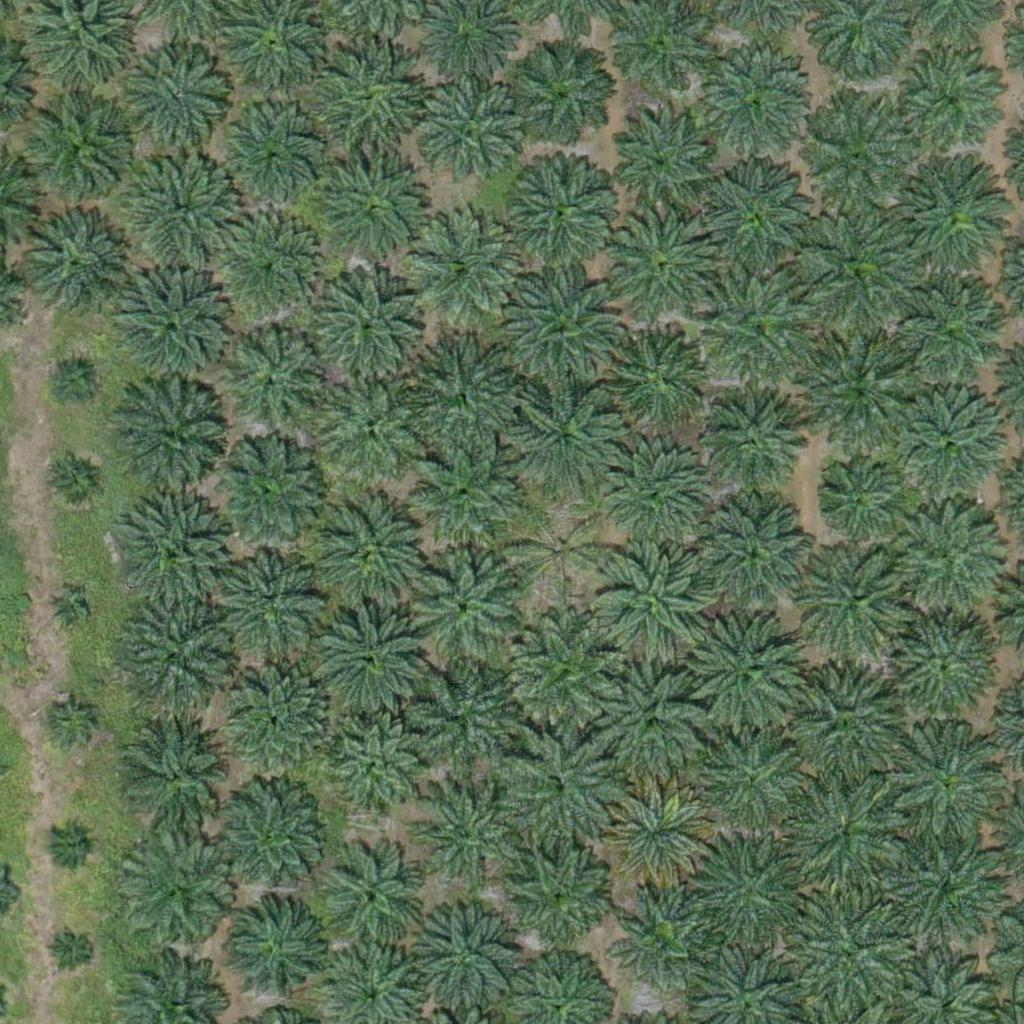Kelapa_Sawit: (305, 40, 430, 166), (315, 150, 440, 276), (884, 275, 1009, 401), (798, 332, 923, 458), (782, 773, 907, 899), (788, 892, 913, 1018), (300, 258, 425, 384), (898, 45, 1011, 159), (891, 158, 1004, 272), (129, 152, 242, 266), (893, 610, 1006, 724), (799, 544, 912, 658), (885, 725, 998, 839), (603, 207, 716, 321), (698, 497, 811, 611), (122, 838, 235, 952), (799, 102, 912, 215), (612, 107, 725, 220), (505, 153, 618, 266), (892, 831, 1005, 944), (785, 669, 898, 782), (686, 614, 799, 727), (15, 208, 128, 321), (119, 497, 232, 610), (120, 599, 233, 712), (120, 714, 233, 827), (207, 208, 320, 321), (316, 369, 429, 482), (403, 662, 516, 775), (411, 554, 524, 667), (407, 437, 520, 550), (401, 339, 514, 452), (507, 615, 620, 728), (701, 267, 814, 380), (601, 780, 714, 893), (503, 733, 616, 846), (499, 838, 612, 951), (212, 783, 325, 896), (21, 96, 133, 210), (407, 208, 519, 322), (507, 268, 619, 382), (602, 445, 714, 559), (699, 56, 811, 169), (703, 158, 815, 271), (416, 82, 528, 195), (892, 390, 1004, 503), (891, 501, 1003, 614), (800, 212, 912, 325), (698, 724, 810, 837), (688, 833, 800, 946), (117, 274, 229, 387), (117, 386, 229, 499), (214, 435, 326, 548), (221, 320, 333, 433), (319, 493, 431, 606), (315, 600, 427, 713), (509, 380, 621, 493), (594, 664, 706, 777), (595, 542, 707, 655), (411, 778, 523, 891), (510, 502, 610, 603), (513, 45, 613, 146), (220, 113, 320, 214), (132, 53, 232, 154), (230, 666, 330, 767), (226, 552, 326, 653), (327, 720, 427, 821), (416, 903, 516, 1004), (324, 852, 424, 953), (605, 329, 705, 429), (704, 387, 804, 487), (229, 899, 329, 999), (619, 895, 706, 984), (818, 463, 893, 539), (47, 695, 97, 746), (43, 819, 93, 870), (47, 927, 97, 977), (49, 355, 99, 405), (50, 458, 100, 508), (49, 590, 87, 628)
